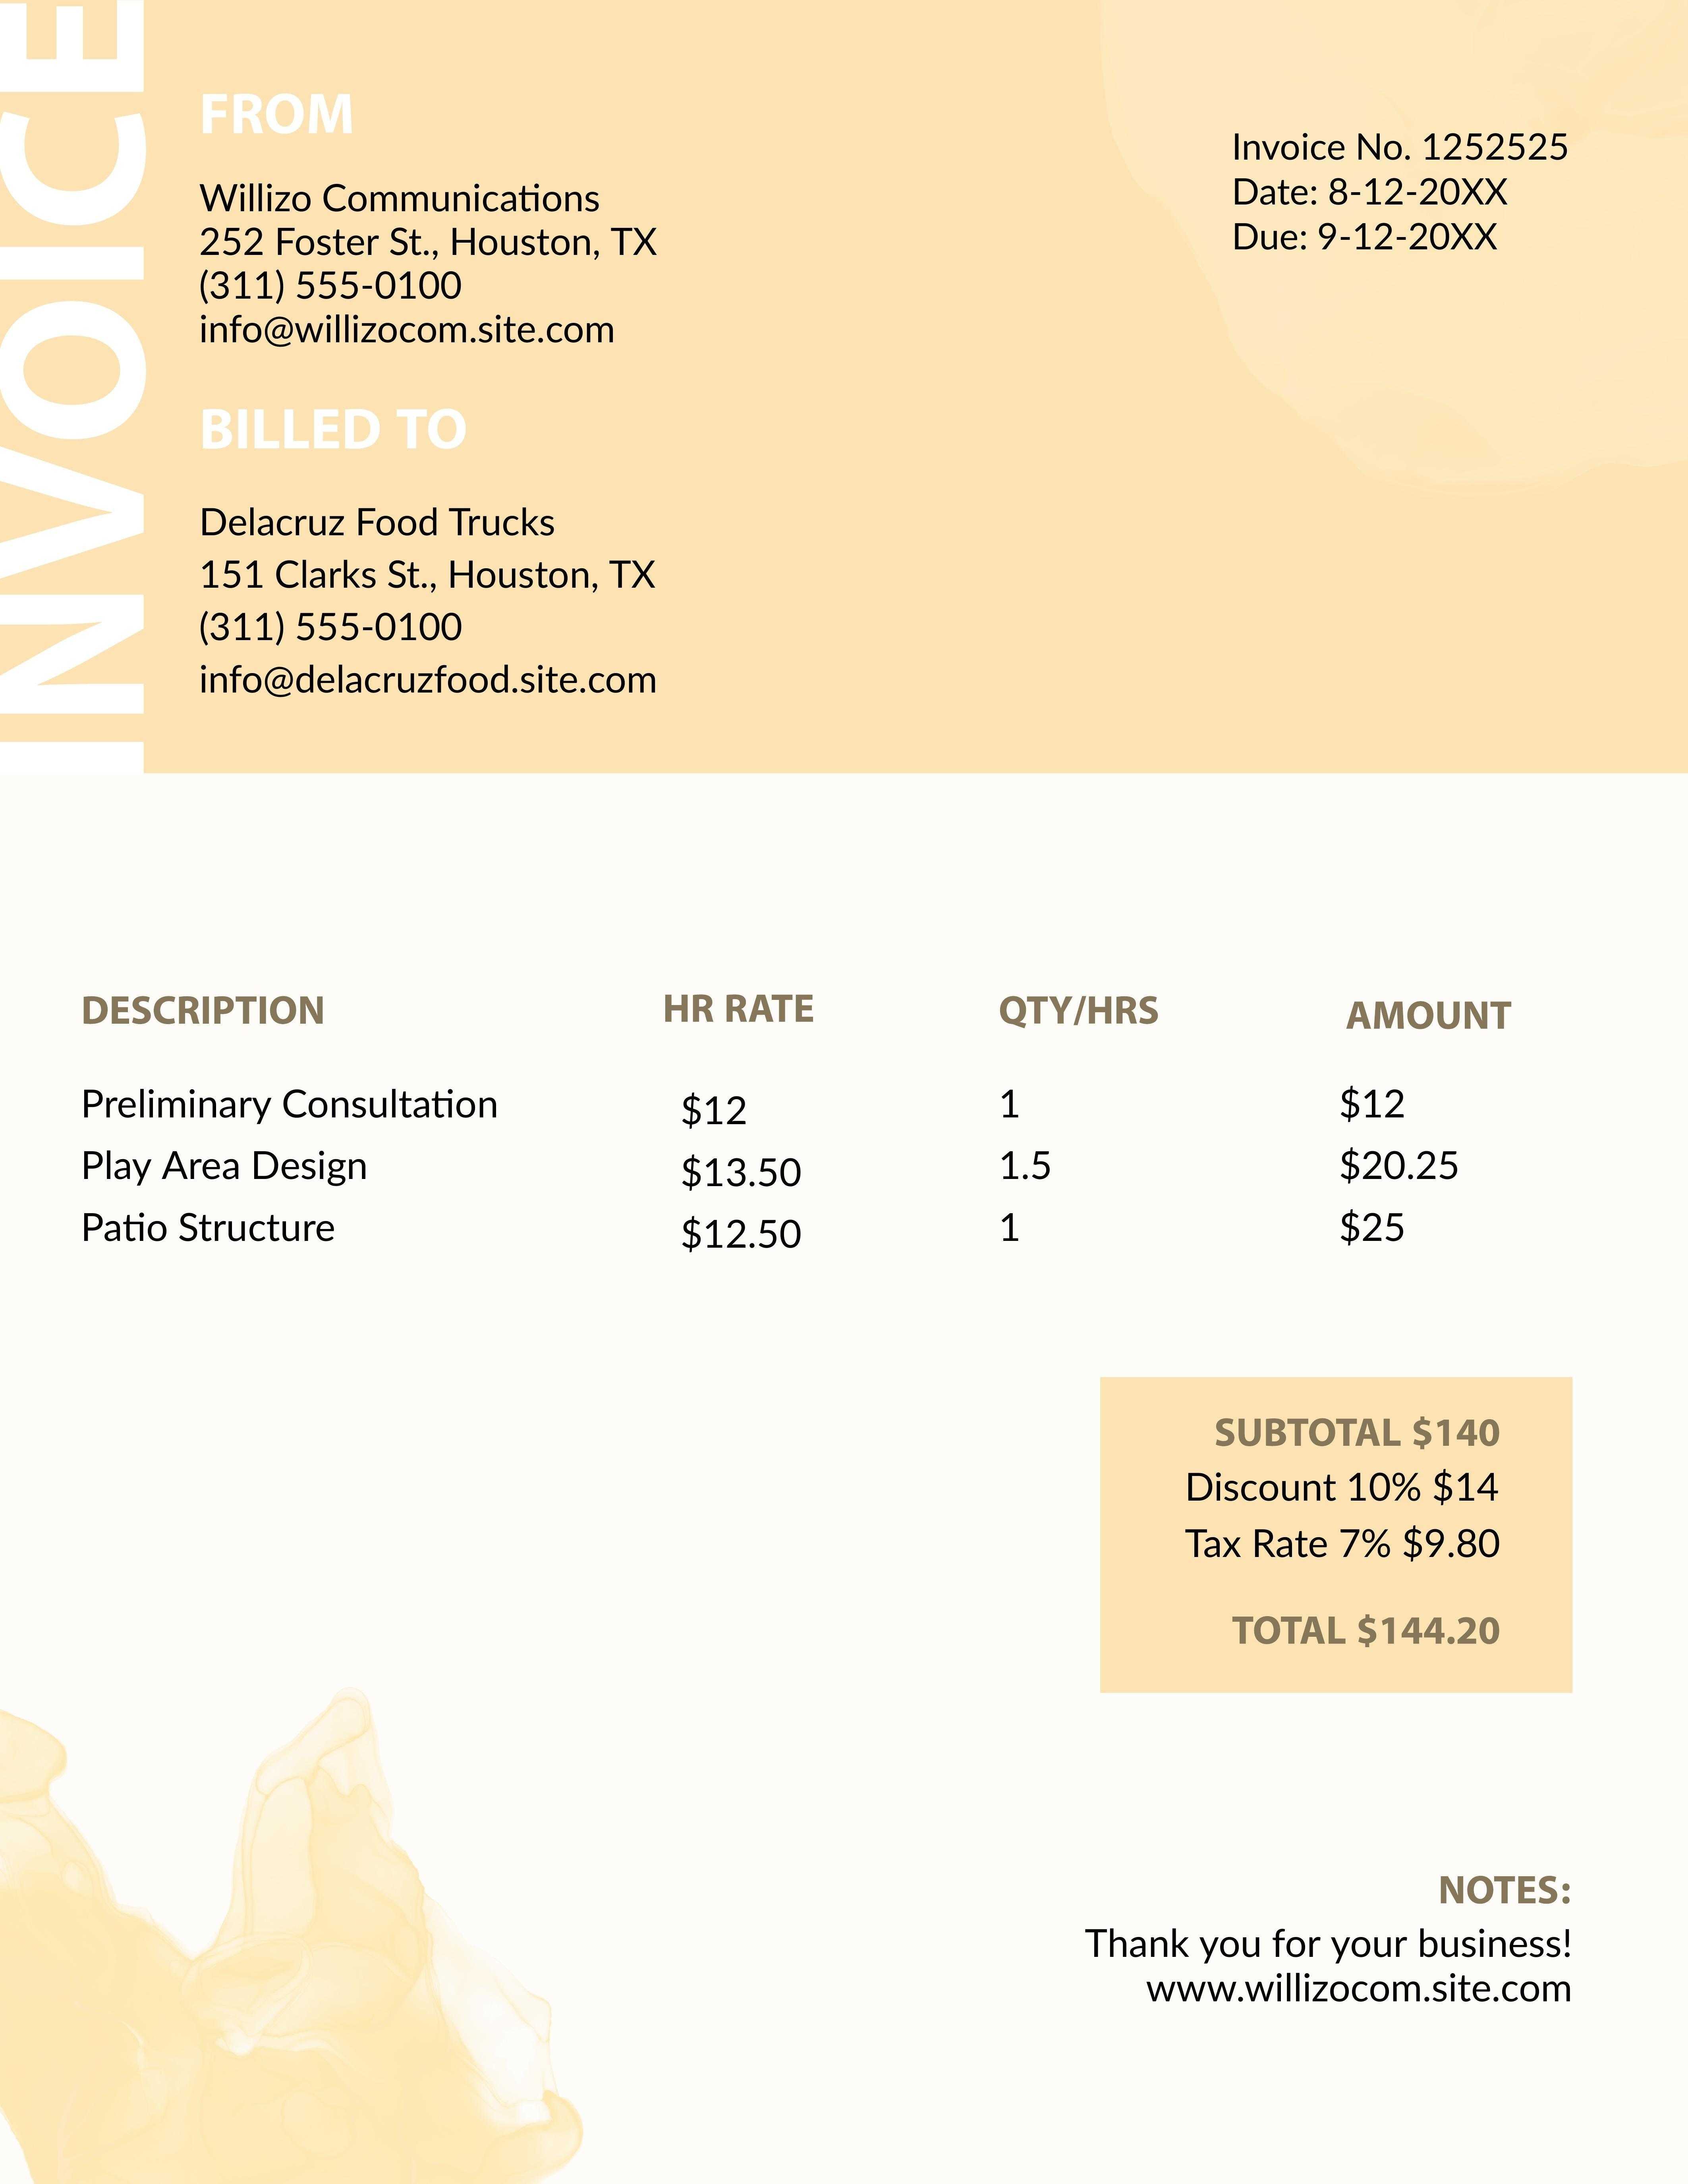ROI: (60, 973, 1544, 1295), (187, 389, 688, 710), (191, 83, 730, 353), (1160, 1394, 1553, 1655), (1215, 123, 1593, 267)
